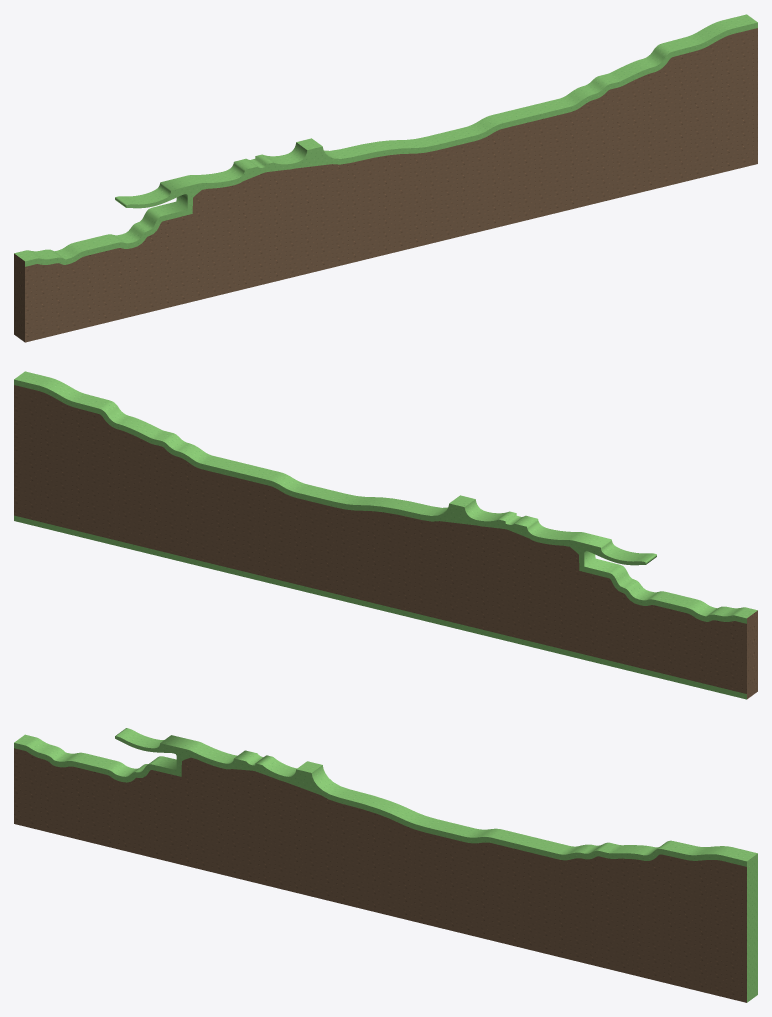
Rendered from GardenAMainMesh.fbx.
The picture shows the model from 3 angles, top to bottom: view 1: azimuth 30°, elevation 25°; view 2: azimuth 150°, elevation 25°; view 3: azimuth 330°, elevation 25°; orthographic projection.
Visible parts, largest first — view 1: GardenMeshA; view 2: GardenMeshA; view 3: GardenMeshA.
Boxes of the visible parts, box(x1,y1,x2,y2) form: GardenMeshA: box(14, 14, 757, 342); GardenMeshA: box(14, 371, 757, 699); GardenMeshA: box(14, 728, 757, 1002).
Size of the model in its own units: 25914 by 4781 by 678.
